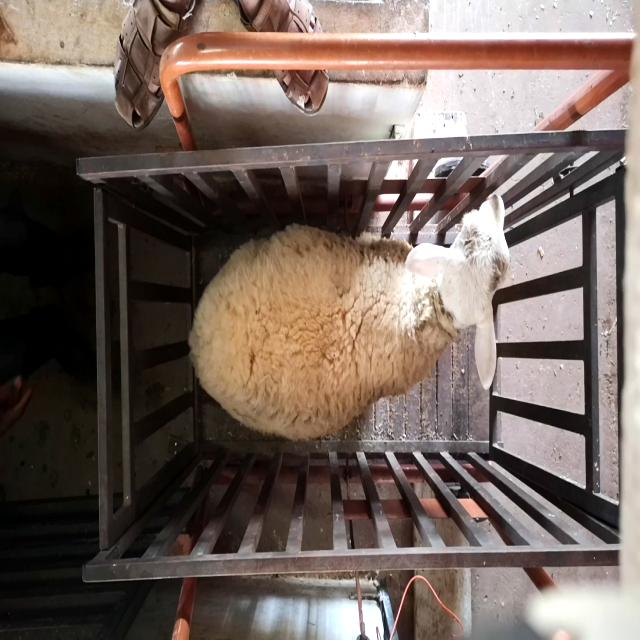sheep: (189, 193, 510, 439)
